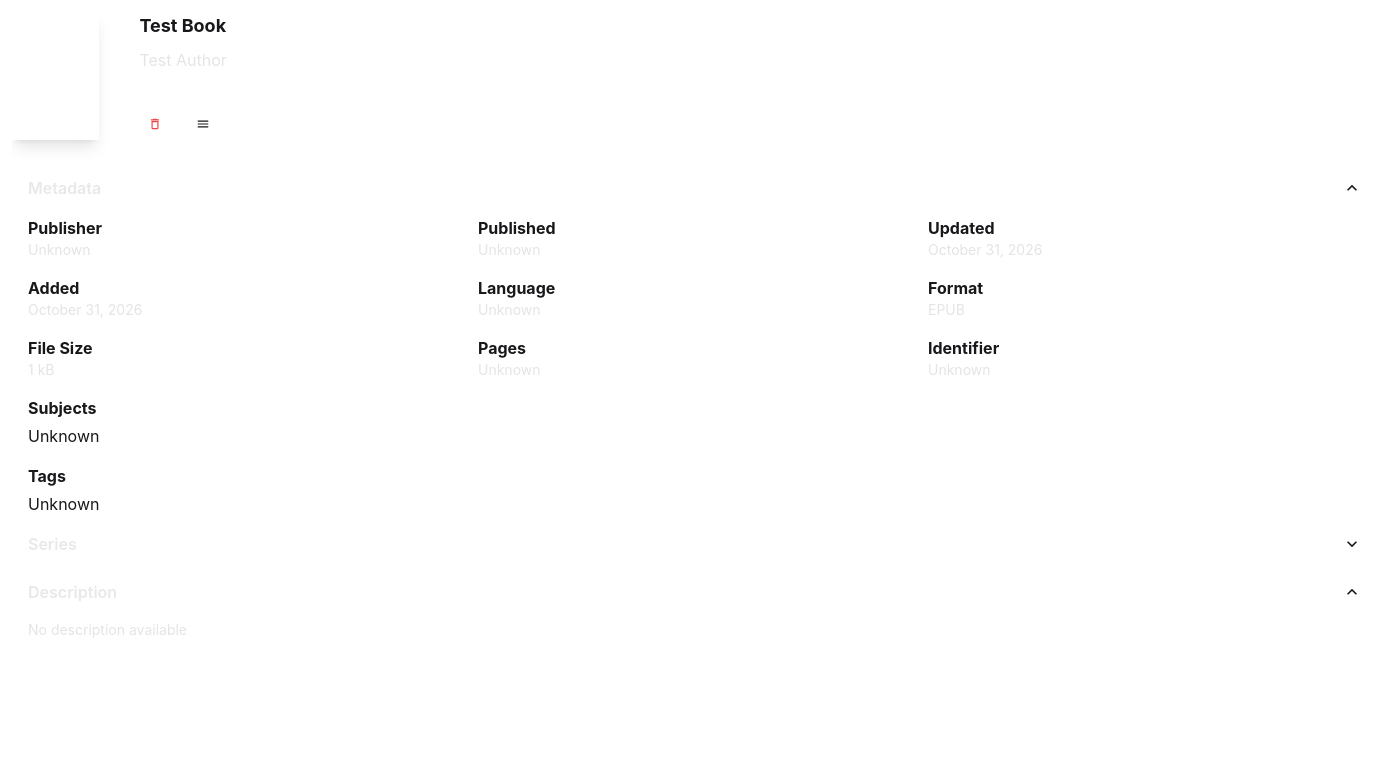
Test case: BookDetailView delete dropdown layout › places dropdown-center on the parent dropdown so the menu stays in flow
This screenshot has width=1390, height=780.
Click the button named "Delete Book Options": (155, 124) [139,108,171,140]
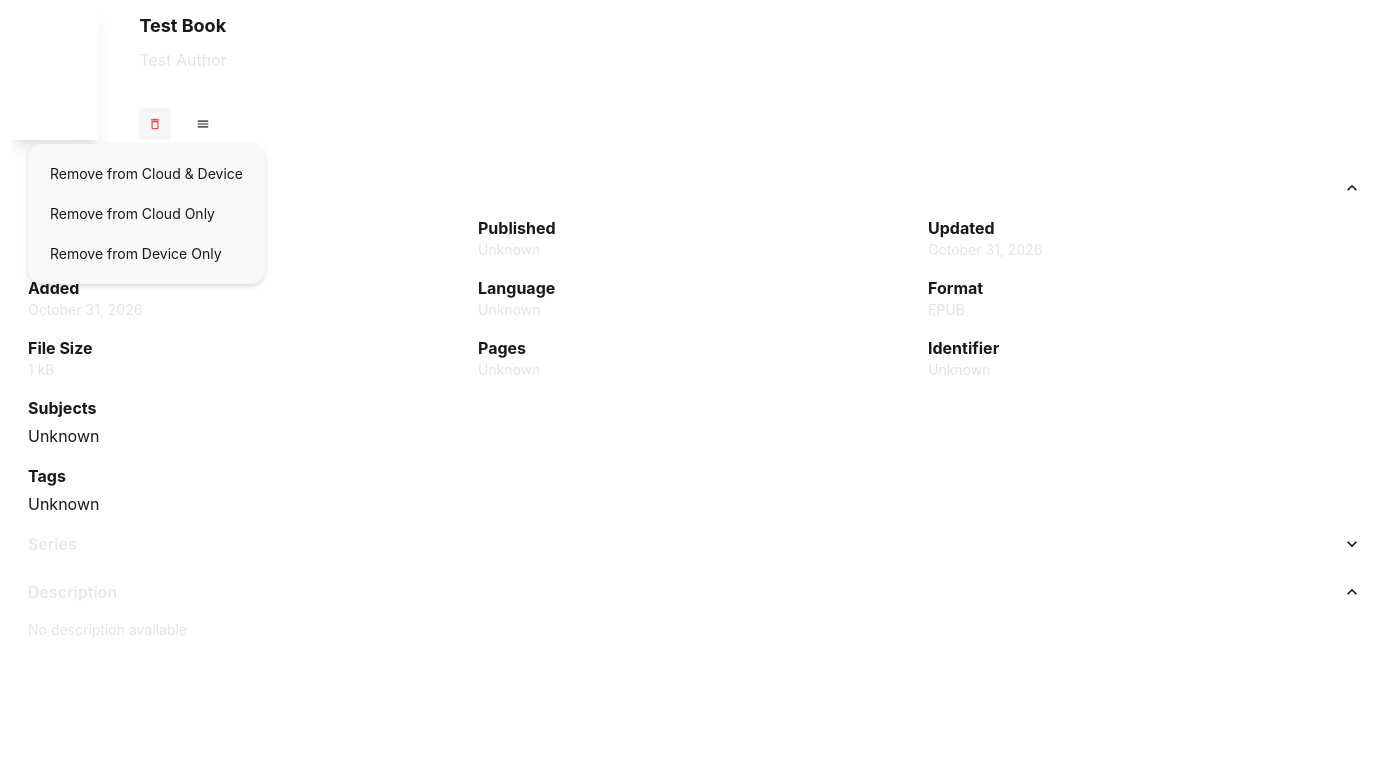
Now the element with class "dropdown" is shown, box [21,140,258,284]
Now the element with class "delete-menu" is shown, box [28,144,265,284]
